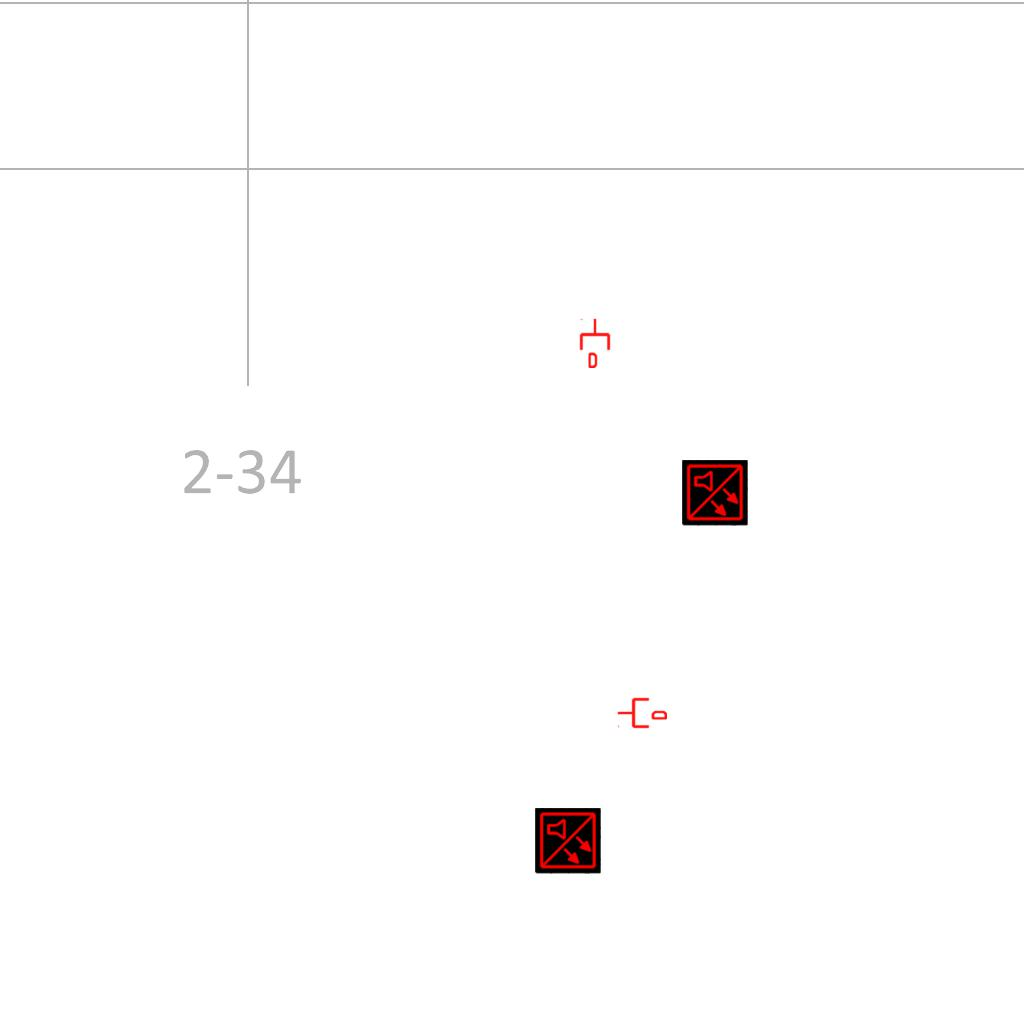Datenanschluss_einfach: (617, 696, 667, 730), (578, 318, 612, 368)
OKW_Multisensormelder_(Kombination_optischer_Rauch-Kahlenmonoxid_Waerme-Melder): (682, 460, 748, 526), (535, 808, 601, 874)
